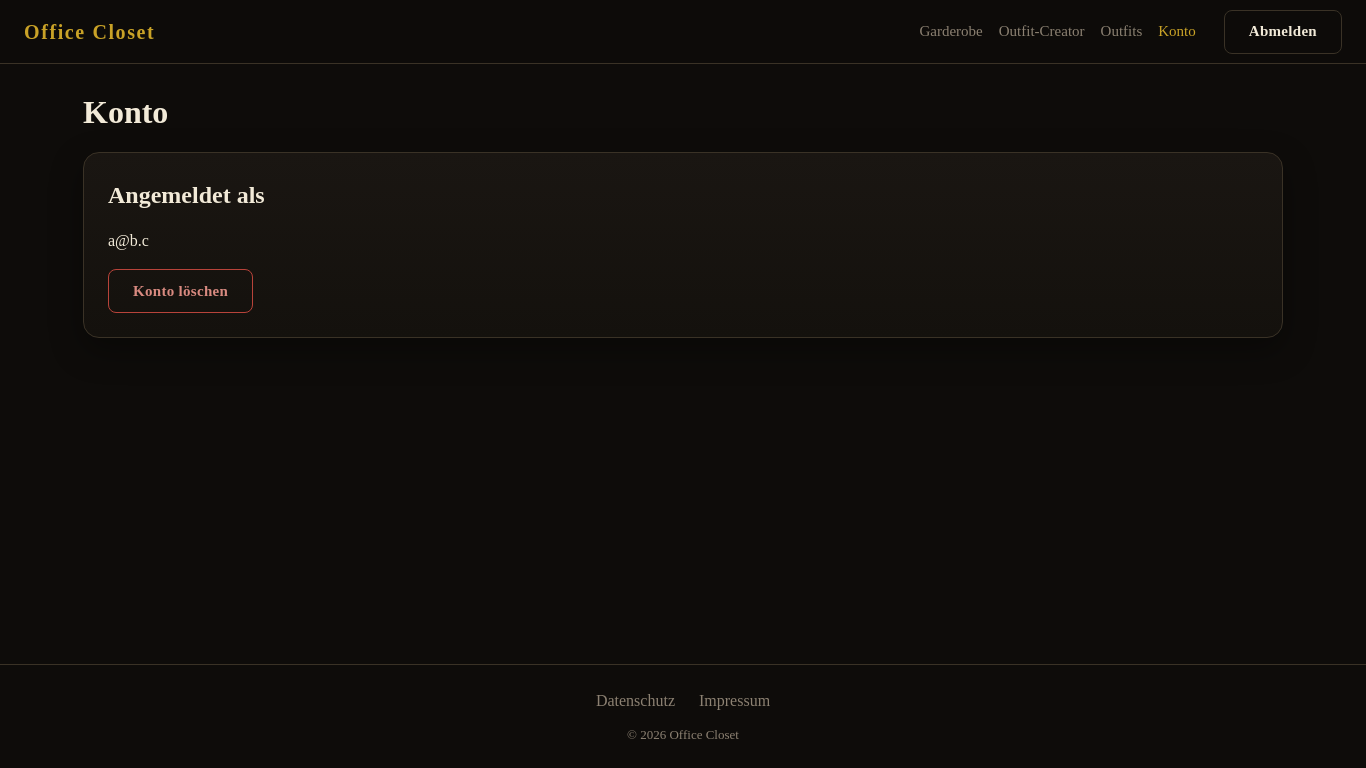
Test: Account-Seite › zeigt nach Klick auf Löschen einen Bestätigungsdialog
Click the button "Konto löschen" at (181, 291), box [108,269,253,313]
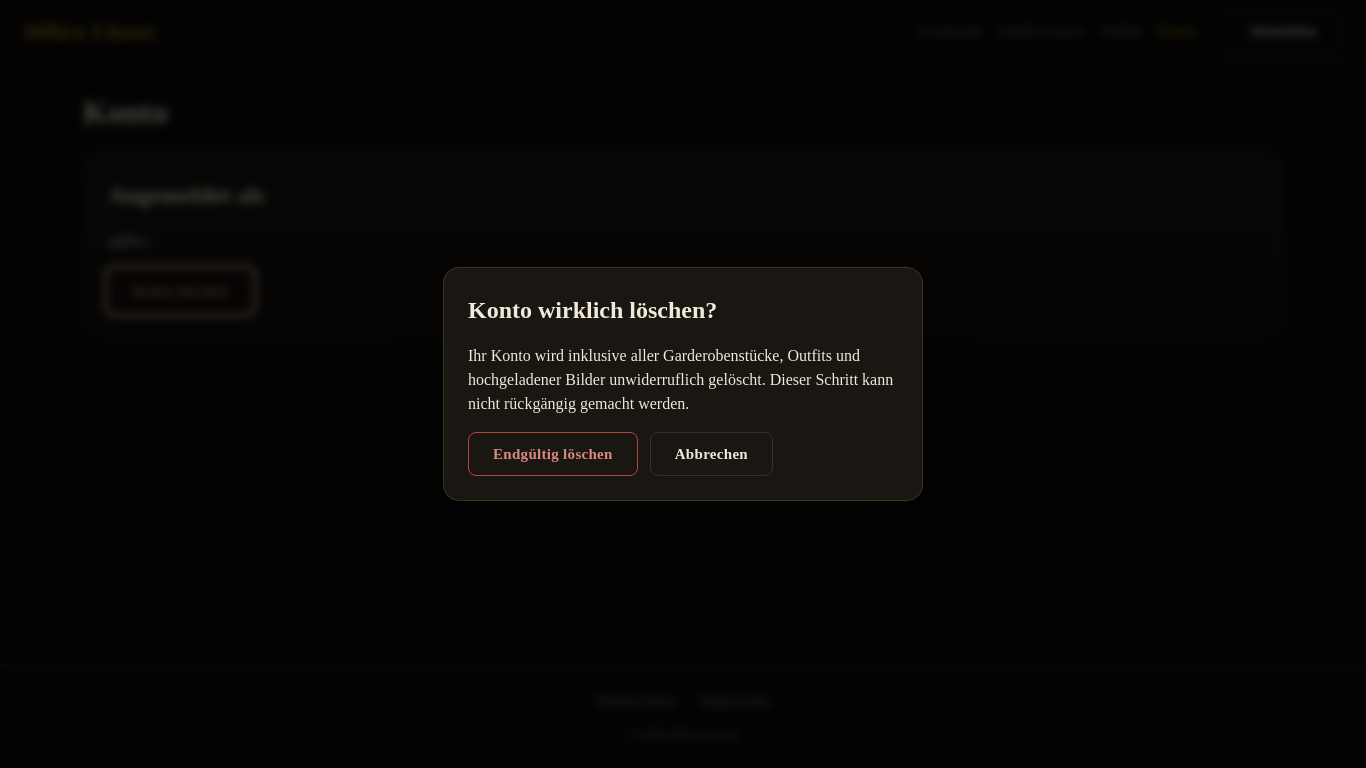
Now the dialog "Konto wirklich löschen?" is shown, box [443,267,923,501]
Now the button "Endgültig löschen" is shown, box [468,432,638,476]
